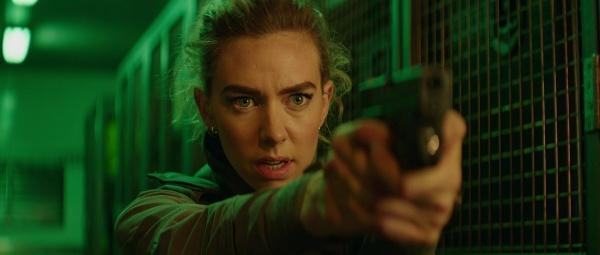Gun: (359, 67, 451, 165)
